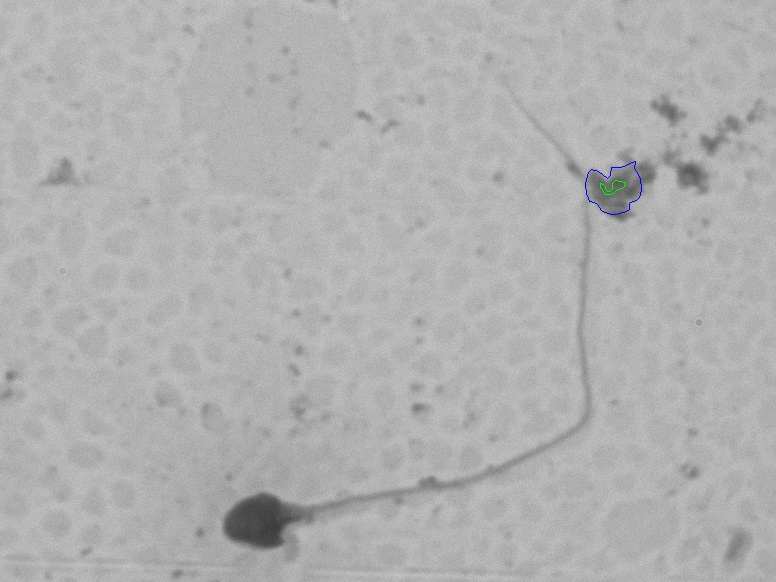Abnormal: (209, 59, 617, 567)
